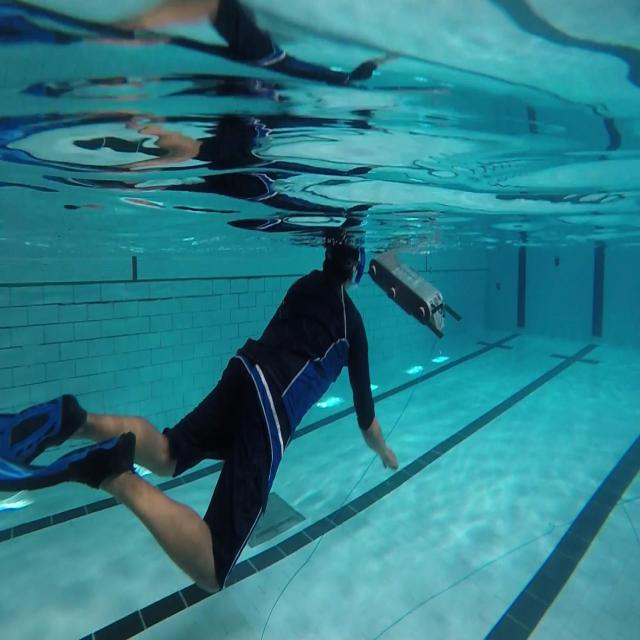human: (1, 223, 400, 594)
